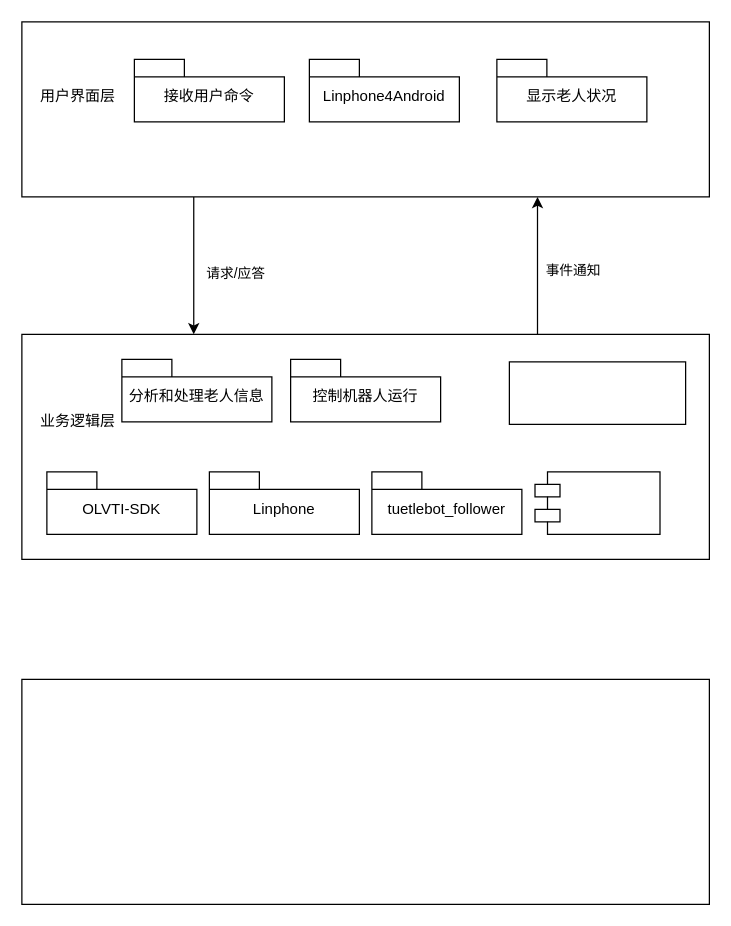
This 731x926 diagram has some shape labels left out. The centre of each missing label's shape, as x and y in pixels:
"<<Interface>> DataService" goes at [597,392].
"DataService" goes at [597,502].
